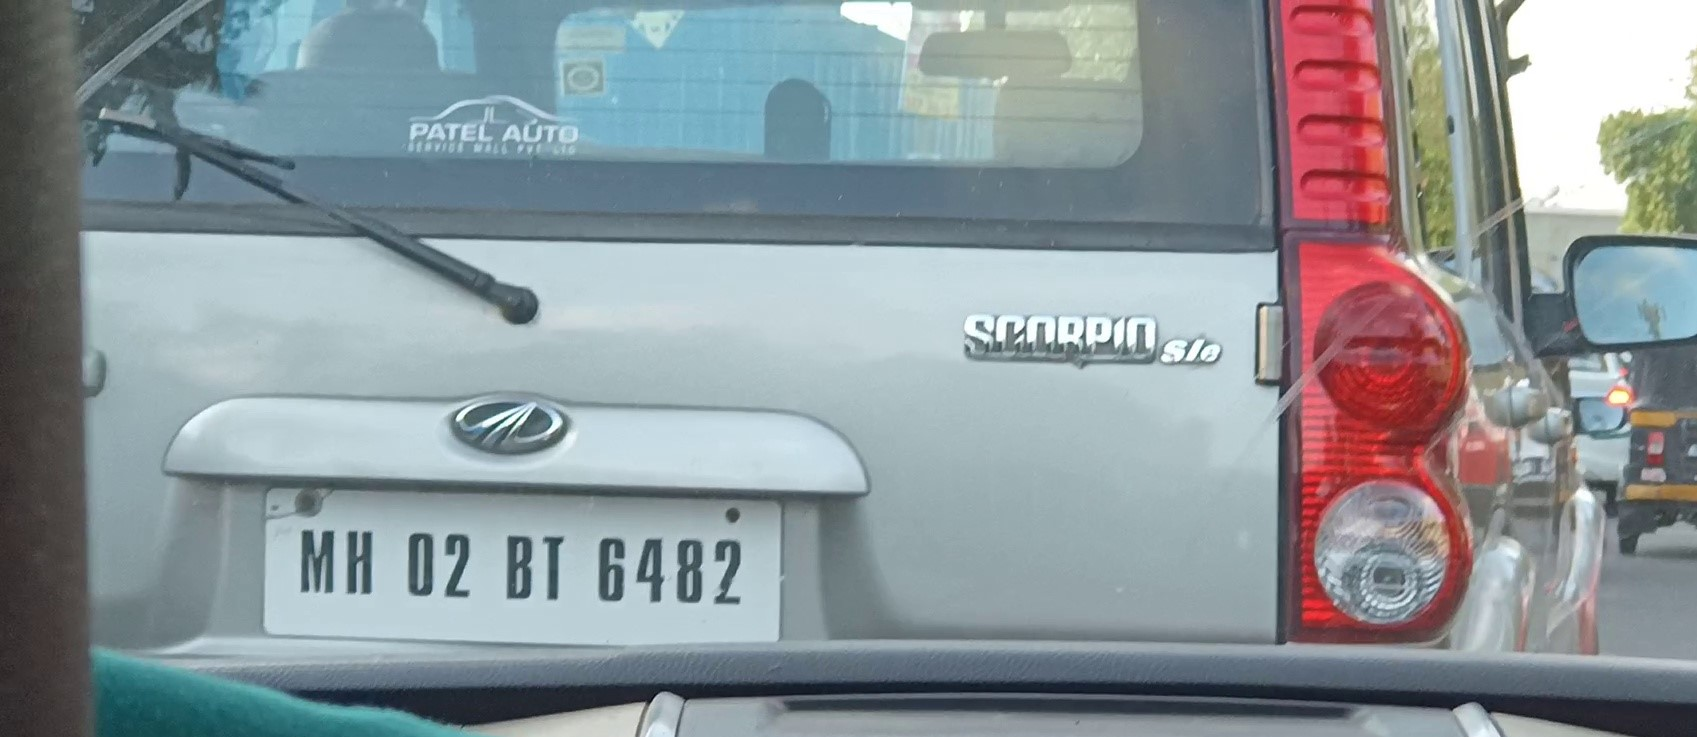MH02BT6482: (261, 482, 785, 643)
